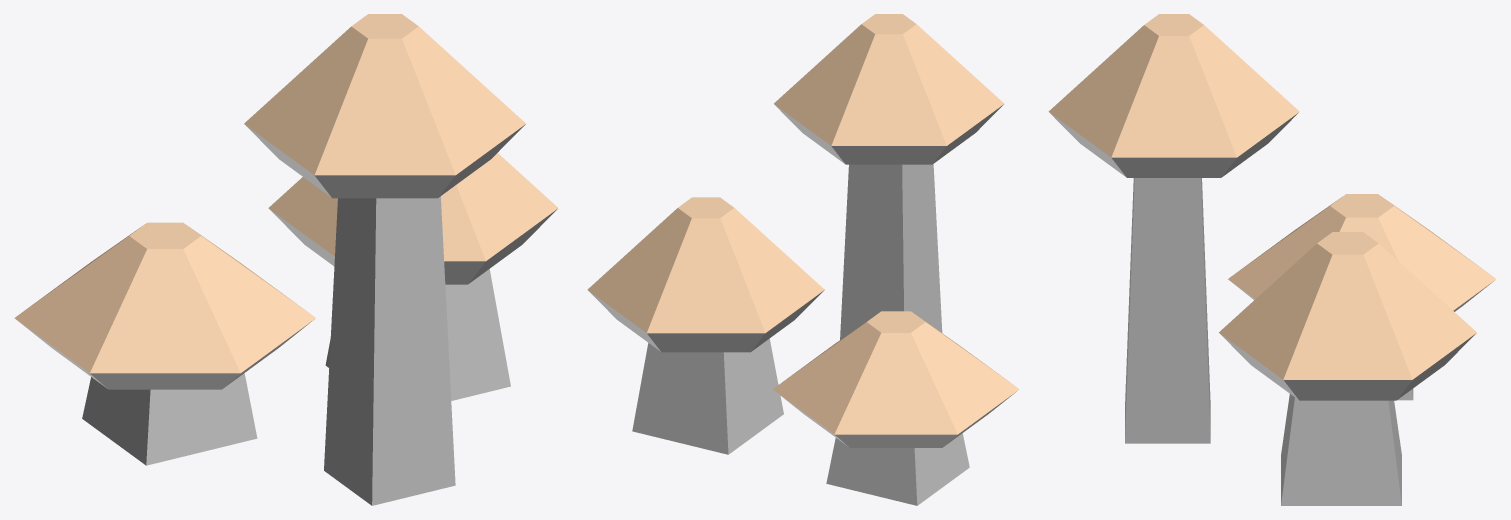
Rendered from mushroom_tanGroup.gltf.
3 views of the same model, side by side, from view 1: azimuth 30°, elevation 25°; view 2: azimuth 150°, elevation 25°; view 3: azimuth 270°, elevation 25° (orthographic). The views are drawn at different scales.
Parts seen in each view (by area): view 1: mushroom_tanGroup; view 2: mushroom_tanGroup; view 3: mushroom_tanGroup.
Part boxes in pixels (box(x1,y1,x2,y2)): mushroom_tanGroup: box(14, 14, 558, 505); mushroom_tanGroup: box(587, 14, 1019, 505); mushroom_tanGroup: box(1048, 14, 1496, 505).
Bounding box in the file's own units: 0.2696 × 0.2505 × 0.2542.
